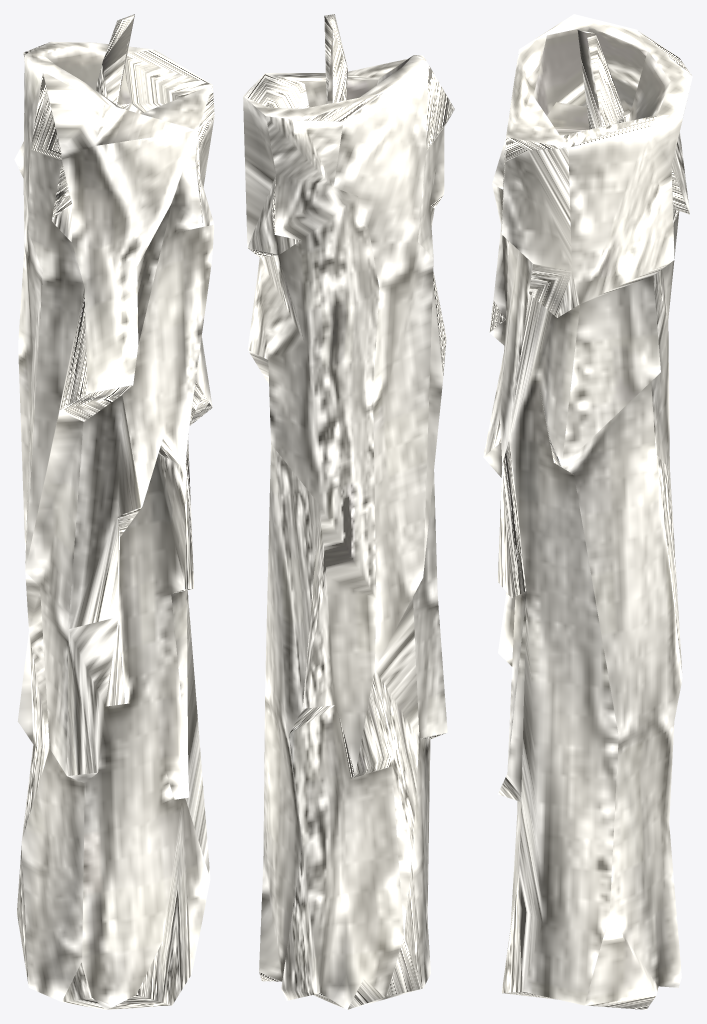
File: floating_candle.glb
3 renders of one model, left to right at view 1: azimuth 30°, elevation 25°; view 2: azimuth 150°, elevation 25°; view 3: azimuth 270°, elevation 25°, orthographic.
Visible parts, largest first — view 1: floating_candle; view 2: floating_candle; view 3: floating_candle.
Part boxes in pixels (box(x1,y1,x2,y2)): floating_candle: box(14, 14, 214, 1009); floating_candle: box(243, 14, 454, 1009); floating_candle: box(483, 14, 692, 1009).
Size of the model in its own units: 0.0526 by 0.2781 by 0.0549.
1 material, 1 textured.
